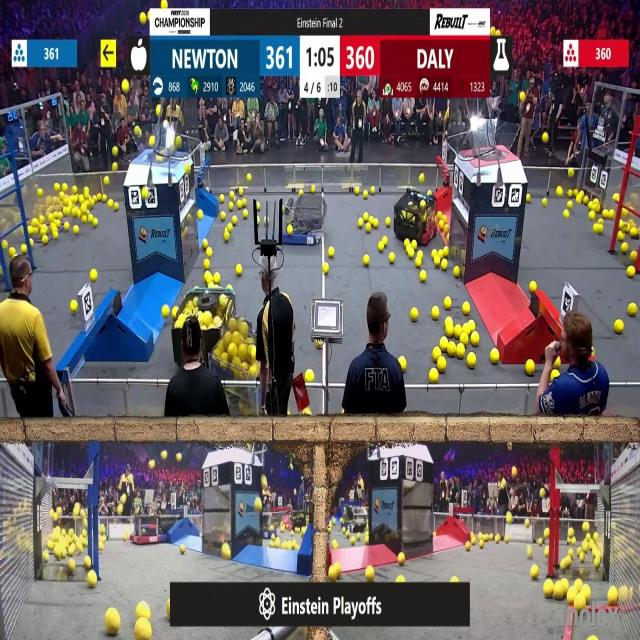ball_airborne: (254, 498, 262, 511), (121, 80, 128, 92), (175, 136, 182, 148), (134, 128, 142, 138), (111, 146, 118, 157), (140, 12, 147, 23), (74, 502, 80, 514), (263, 477, 269, 489), (162, 0, 169, 10), (160, 450, 167, 460), (142, 187, 148, 198), (513, 466, 519, 477), (541, 133, 547, 144), (539, 489, 545, 499), (155, 105, 160, 116), (120, 495, 126, 504), (148, 137, 154, 146), (520, 93, 526, 102), (117, 504, 123, 513), (568, 169, 574, 178), (149, 460, 155, 469), (176, 454, 182, 462), (112, 164, 117, 172), (491, 28, 496, 36), (155, 154, 161, 160), (164, 119, 169, 126)
ball_ground: (106, 611, 120, 637), (137, 602, 150, 618), (607, 588, 617, 606), (543, 582, 552, 600), (574, 596, 585, 610), (89, 570, 98, 586), (628, 304, 638, 318), (438, 358, 448, 372), (328, 566, 338, 580), (221, 545, 230, 560), (466, 353, 475, 368), (567, 588, 575, 604), (584, 586, 592, 602), (491, 349, 499, 364), (429, 370, 438, 383), (526, 360, 534, 374), (616, 320, 624, 334), (365, 566, 373, 580), (306, 368, 314, 382), (457, 346, 466, 358), (470, 334, 478, 347), (531, 565, 538, 579), (70, 302, 78, 314), (431, 308, 439, 320), (163, 306, 171, 318), (441, 339, 449, 351), (630, 250, 638, 262), (448, 342, 456, 354), (412, 309, 419, 322), (462, 303, 469, 316), (445, 296, 452, 309), (466, 320, 474, 331), (454, 324, 462, 335), (420, 271, 427, 283), (399, 356, 405, 370), (397, 554, 404, 566), (628, 267, 635, 279), (447, 324, 454, 336), (432, 348, 439, 360), (68, 559, 75, 571), (408, 250, 416, 260), (562, 558, 570, 568), (205, 272, 212, 283), (68, 544, 75, 555), (92, 270, 98, 282), (84, 557, 90, 569), (213, 274, 220, 284), (388, 252, 395, 262), (594, 223, 601, 233), (622, 243, 629, 253), (356, 218, 363, 228), (460, 334, 467, 344), (80, 205, 87, 215), (362, 254, 368, 265), (237, 266, 243, 277), (530, 281, 536, 292), (556, 358, 562, 369), (416, 257, 422, 268), (454, 268, 460, 279), (172, 307, 178, 318), (451, 575, 459, 583), (72, 208, 80, 216), (364, 222, 371, 231), (631, 229, 638, 238), (374, 218, 381, 227), (41, 224, 48, 233), (316, 341, 323, 350), (322, 265, 328, 275), (327, 247, 333, 257), (205, 261, 211, 271), (223, 233, 229, 243), (444, 247, 450, 257), (20, 242, 26, 252), (434, 256, 440, 266), (442, 261, 448, 271), (557, 186, 563, 196), (363, 212, 369, 222), (51, 231, 57, 241), (594, 559, 600, 569), (368, 215, 374, 225), (396, 575, 404, 582), (553, 368, 560, 376), (331, 540, 338, 548), (64, 208, 71, 216), (199, 210, 204, 221), (527, 548, 532, 559), (412, 240, 418, 249), (42, 237, 48, 246), (206, 248, 212, 257), (379, 243, 385, 252), (619, 232, 625, 241), (526, 193, 532, 202), (8, 248, 14, 257), (2, 241, 8, 250), (589, 211, 595, 220), (608, 210, 614, 219), (602, 210, 608, 219), (42, 553, 48, 562), (94, 218, 100, 227), (350, 536, 356, 545), (543, 528, 548, 538), (403, 240, 409, 248), (233, 216, 239, 224), (362, 190, 368, 198), (81, 215, 87, 223), (220, 212, 226, 220), (227, 203, 233, 211), (363, 536, 369, 544), (541, 200, 547, 208), (354, 187, 360, 195), (100, 526, 106, 534), (386, 217, 391, 226), (420, 174, 425, 183), (180, 543, 185, 552), (219, 193, 224, 202), (579, 554, 584, 563), (543, 549, 548, 558), (89, 215, 94, 224), (91, 200, 96, 209), (305, 410, 311, 417), (108, 201, 114, 208), (122, 534, 128, 541), (100, 195, 106, 202), (465, 541, 470, 549), (564, 210, 569, 218), (65, 222, 70, 230), (417, 250, 422, 258), (242, 200, 247, 208), (226, 223, 231, 231), (369, 186, 374, 194), (444, 224, 449, 232), (620, 220, 625, 228), (247, 174, 252, 182), (29, 226, 34, 234), (589, 203, 594, 211), (495, 534, 500, 542), (571, 536, 576, 544), (442, 212, 447, 220), (204, 240, 208, 249), (598, 218, 604, 224), (567, 189, 572, 196), (575, 198, 580, 205), (504, 535, 509, 542), (470, 537, 475, 544), (383, 238, 388, 245), (264, 217, 269, 224), (226, 284, 231, 291), (74, 225, 78, 233), (244, 210, 248, 218), (568, 202, 572, 210), (432, 249, 436, 257), (114, 203, 118, 211), (100, 542, 104, 550), (256, 203, 260, 211), (256, 216, 260, 224), (438, 212, 442, 220), (481, 540, 485, 548), (229, 194, 233, 202), (357, 536, 361, 544), (537, 538, 542, 544), (312, 185, 316, 192), (568, 550, 572, 557), (240, 188, 244, 195), (298, 189, 302, 195)
goal: (464, 122, 522, 160)
robot_blue: (280, 190, 325, 247), (343, 506, 370, 533)
robot_red: (395, 190, 439, 244), (132, 516, 161, 545)
